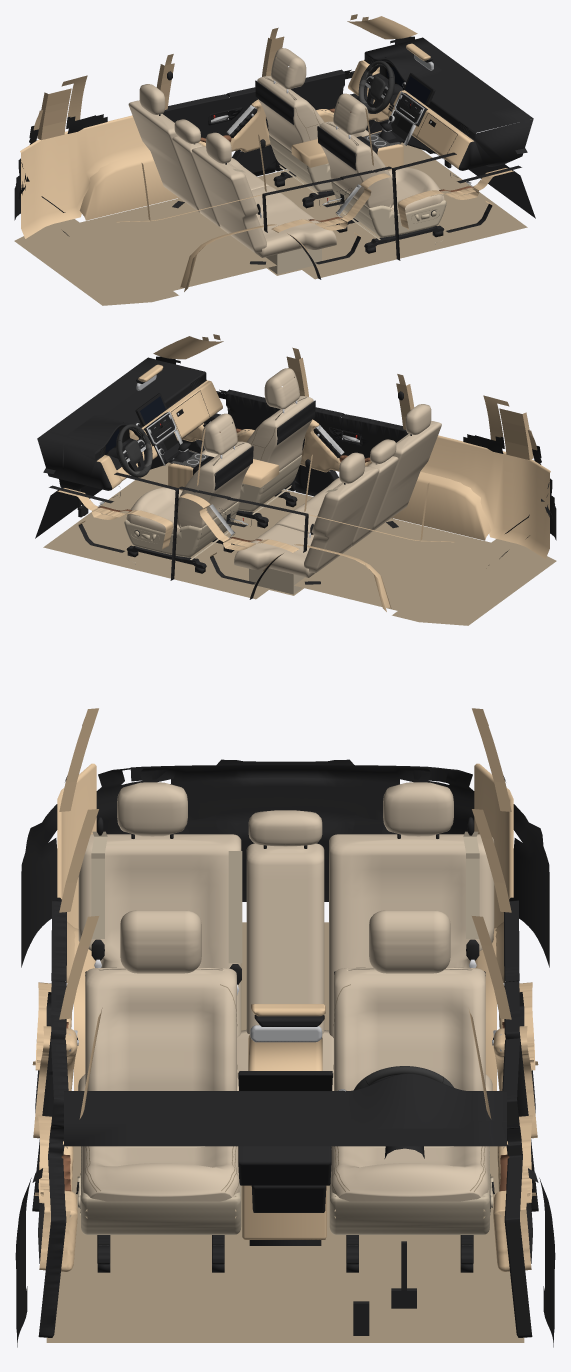
Rendered from cabin.glb.
3 views of the same model, one above another, from view 1: azimuth 30°, elevation 25°; view 2: azimuth 150°, elevation 25°; view 3: azimuth 270°, elevation 25° (orthographic). The views are drawn at different scales.
Visible parts, largest first — view 1: cabin; view 2: cabin; view 3: cabin.
Part boxes in pixels (box(x1,y1,x2,y2)): cabin: box(14, 14, 535, 305); cabin: box(35, 334, 556, 625); cabin: box(15, 708, 555, 1347).
Bounding box in the file's own units: 3.53 × 1.21 × 1.89.
Materials: 1 (1 with a texture image).
